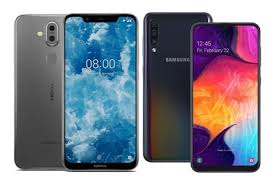nokia: (12, 8, 141, 172)
